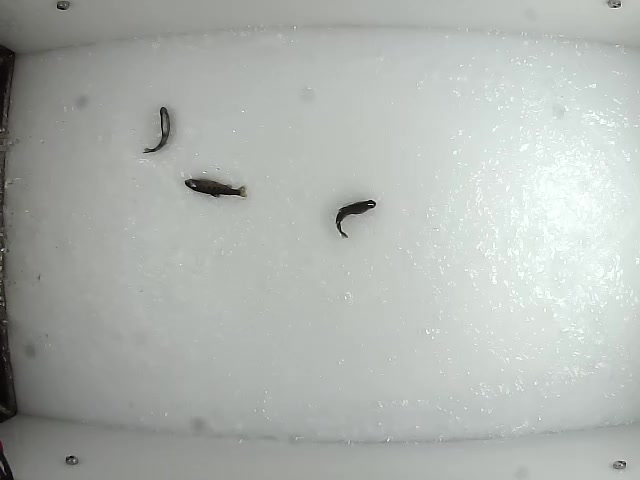fish: (332, 199, 376, 240), (139, 103, 172, 155), (181, 176, 247, 200)
